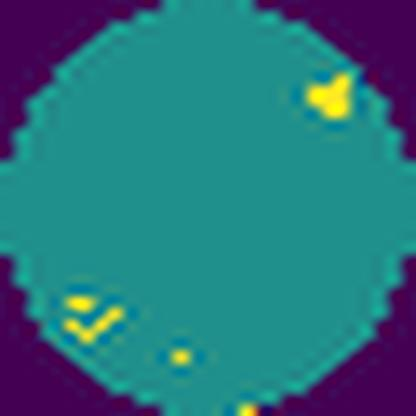Loc: (59, 281, 132, 347), (308, 68, 358, 126)
